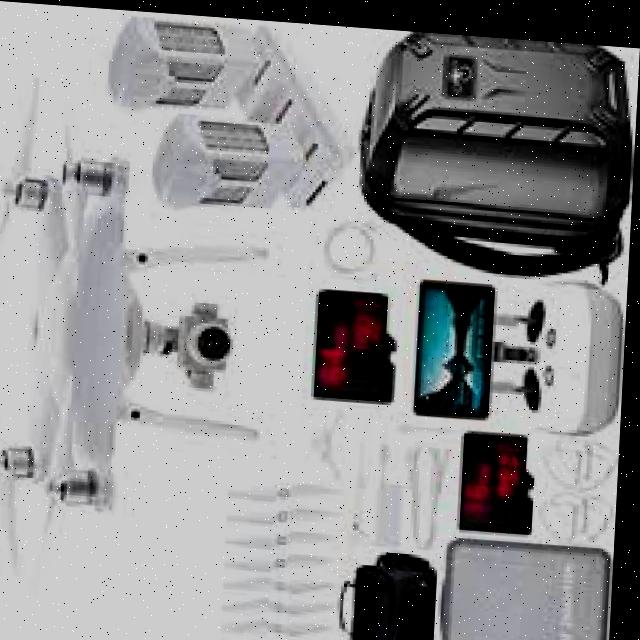drone: (0, 108, 289, 598)
